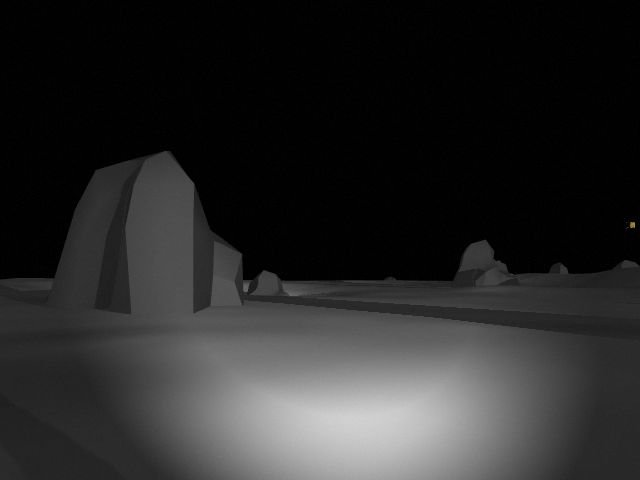cubesat: (629, 220, 637, 231)
